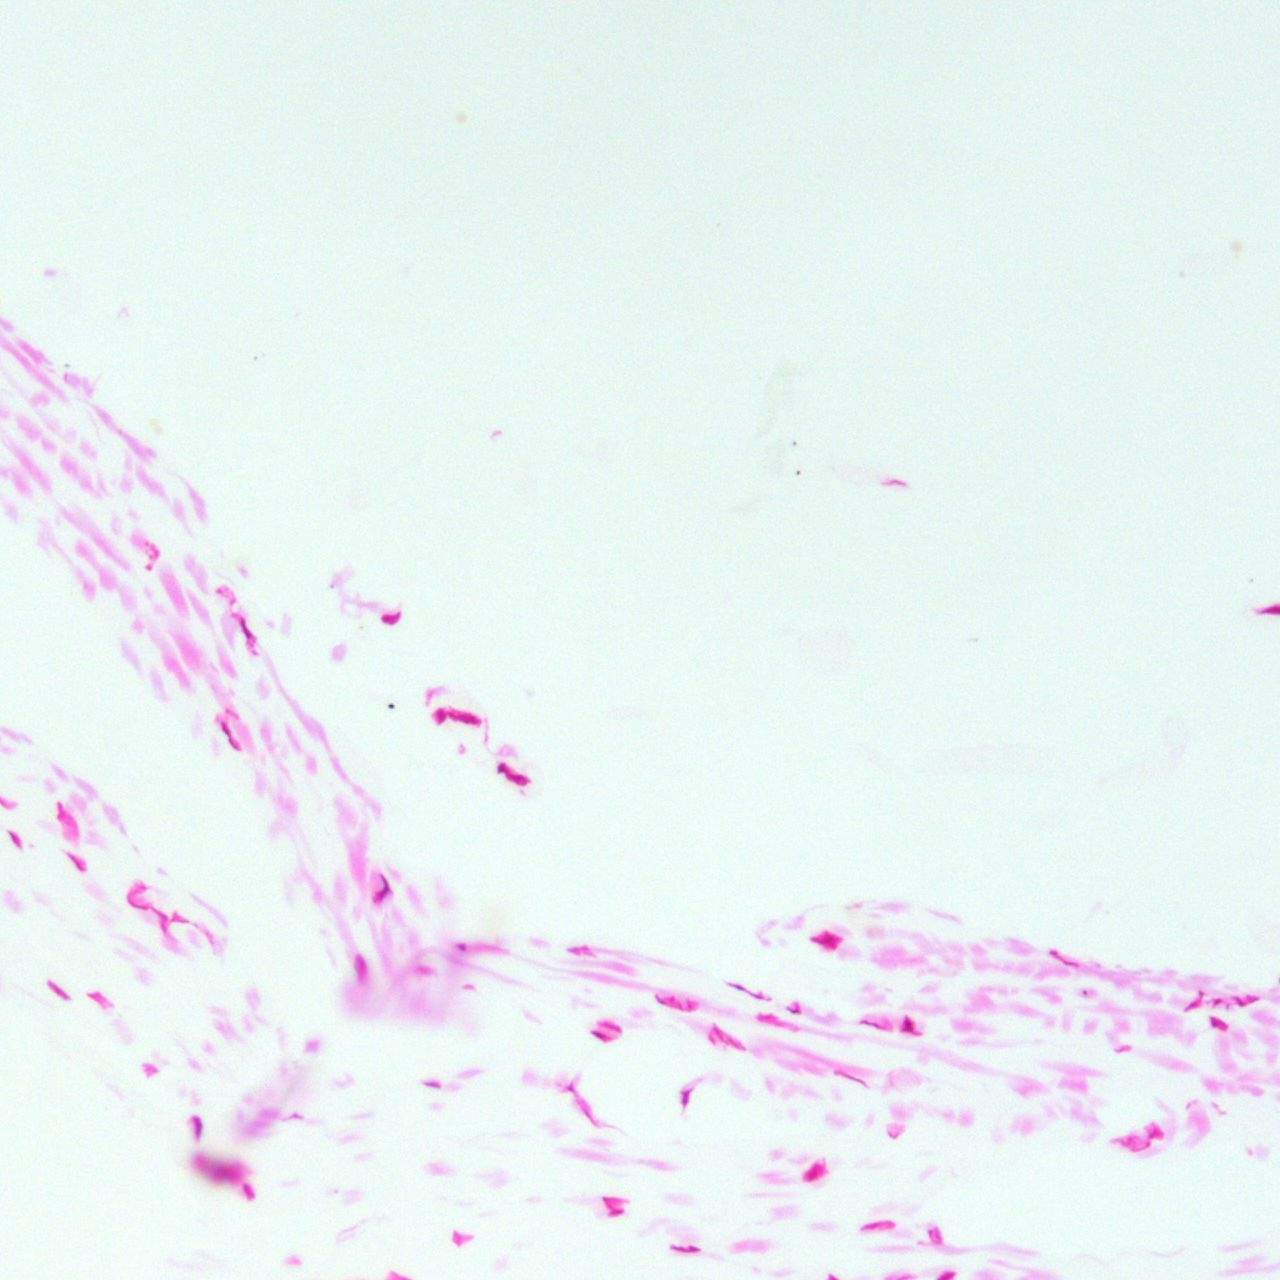dust: (63, 363, 72, 368), (388, 703, 395, 708), (795, 470, 801, 475), (792, 440, 797, 445), (1083, 990, 1088, 995), (1250, 578, 1253, 583), (331, 584, 334, 588)
nucleus-FG: (122, 888, 175, 930), (566, 1080, 599, 1126), (216, 720, 246, 756), (726, 981, 769, 1001), (1046, 947, 1080, 971), (45, 979, 74, 1006), (234, 617, 258, 649), (63, 847, 90, 873), (373, 873, 394, 906), (832, 1068, 867, 1085), (5, 828, 23, 852), (587, 1027, 611, 1046), (449, 714, 482, 726), (1131, 1141, 1153, 1153), (598, 1020, 621, 1032), (1259, 602, 1280, 615), (670, 1245, 703, 1253), (433, 706, 447, 724), (192, 1116, 203, 1141), (381, 611, 401, 624), (53, 801, 66, 821), (859, 1019, 883, 1029), (859, 1221, 881, 1232), (713, 1026, 726, 1043), (510, 774, 527, 787), (900, 1017, 915, 1032), (1207, 1015, 1223, 1029), (601, 1194, 615, 1210), (243, 1184, 256, 1200), (495, 762, 509, 776), (652, 996, 668, 1007), (608, 1208, 625, 1219), (355, 954, 365, 972), (280, 1114, 302, 1121), (1184, 1000, 1197, 1012), (810, 937, 835, 942), (728, 1037, 738, 1050), (681, 1090, 689, 1107), (805, 1173, 819, 1183), (708, 1034, 716, 1047), (1211, 998, 1221, 1007), (423, 1082, 440, 1088), (787, 1007, 799, 1014), (1148, 1129, 1156, 1139), (676, 1000, 683, 1010), (686, 1001, 693, 1012), (457, 942, 467, 949), (1248, 998, 1259, 1003), (1198, 992, 1204, 1001), (1235, 1001, 1246, 1006)
